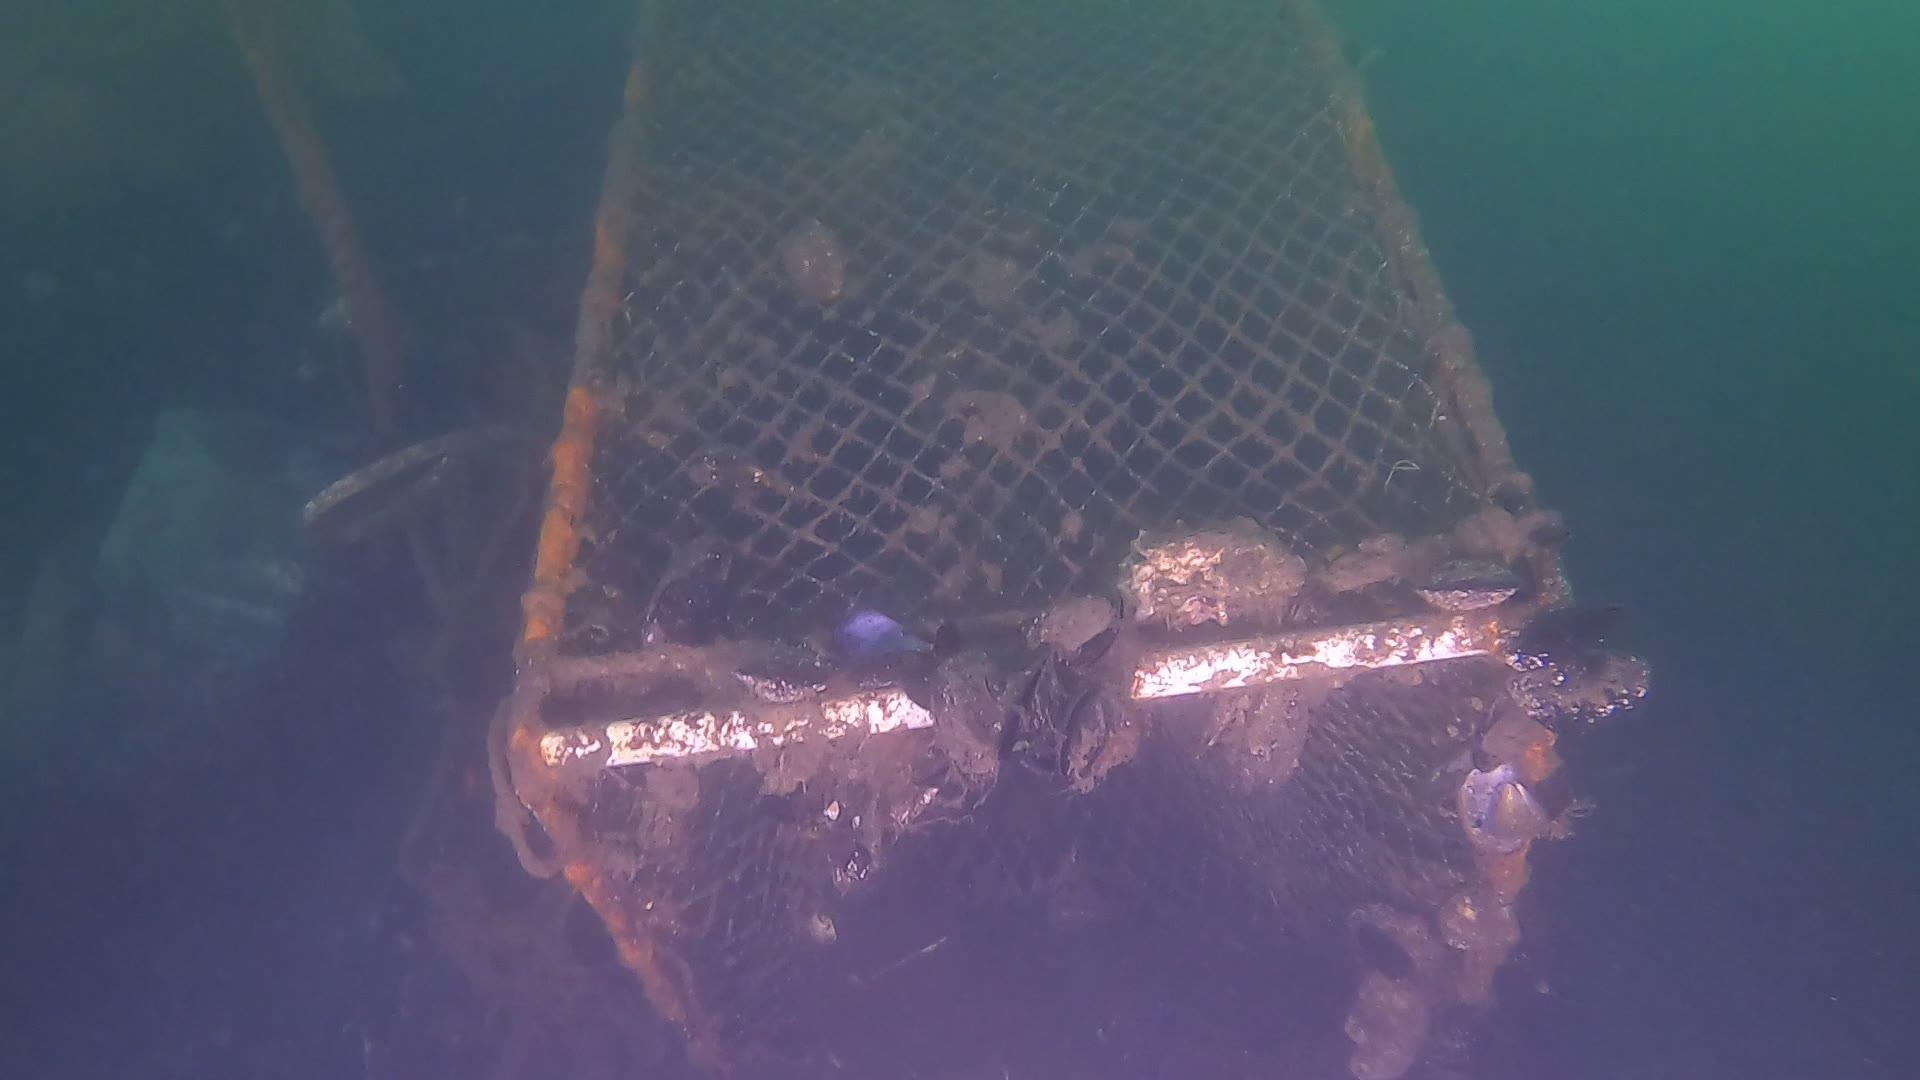rectangular fish trap: (500, 0, 1577, 1080)
